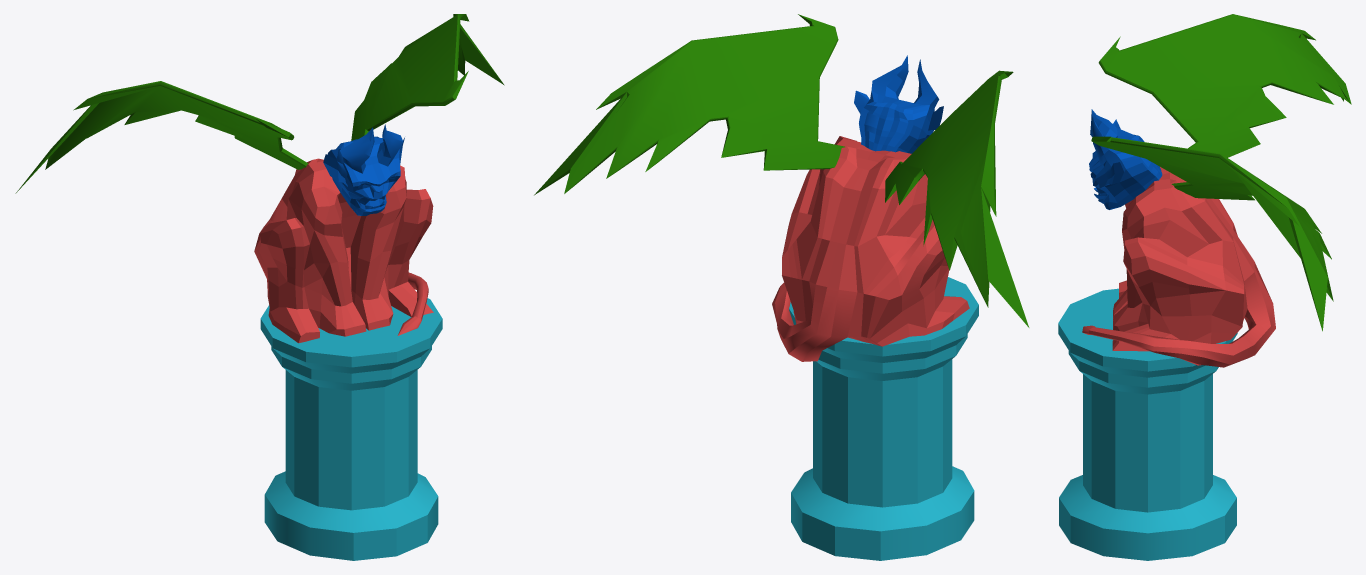
The model's file is gargoyle_export1.fbx.
The picture shows the model from 3 angles, left to right: view 1: azimuth 30°, elevation 25°; view 2: azimuth 150°, elevation 25°; view 3: azimuth 270°, elevation 25°; orthographic projection. The views are drawn at different scales.
Visible parts, largest first — view 1: stand, body, wingssss, head; view 2: wingssss, stand, body, head; view 3: stand, wingssss, body, head.
Boxes of the visible parts, x1,y1,x2,y2 form: stand: (260, 298, 442, 560); body: (254, 158, 433, 343); wingssss: (15, 14, 504, 193); head: (327, 124, 403, 215); wingssss: (534, 14, 1029, 327); stand: (789, 277, 978, 560); body: (772, 136, 969, 361); head: (859, 55, 939, 153); stand: (1058, 288, 1237, 560); wingssss: (1091, 14, 1351, 331); body: (1082, 167, 1275, 367); head: (1089, 109, 1162, 209).
Size of the model in its own units: 10.39 by 9.24 by 5.58.
